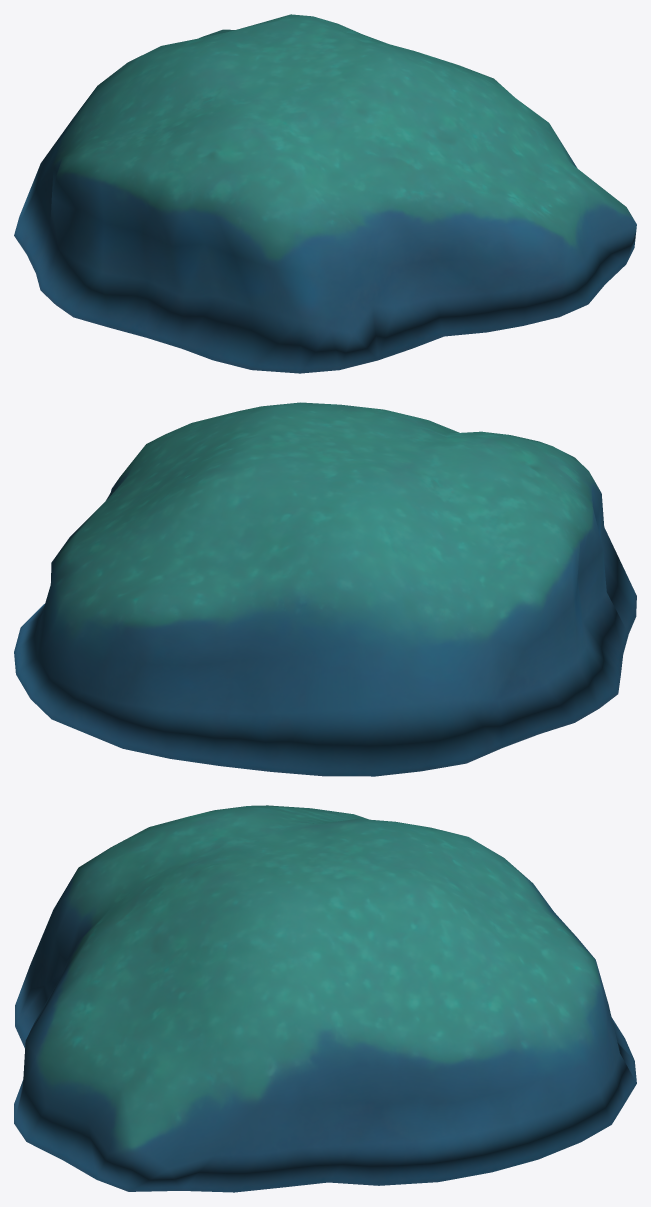
The model's file is Meshy_AI_model_20261128_texture.fbx.
3 renders of one model, top to bottom at view 1: azimuth 30°, elevation 25°; view 2: azimuth 150°, elevation 25°; view 3: azimuth 270°, elevation 25°, orthographic. The views are drawn at different scales.
Parts seen in each view (by area): view 1: geometry_0; view 2: geometry_0; view 3: geometry_0.
Boxes of the visible parts, x1=… form: geometry_0: x1=14, y1=14, x2=636, y2=373; geometry_0: x1=14, y1=402, x2=636, y2=776; geometry_0: x1=14, y1=805, x2=636, y2=1192.
Size of the model in its own units: 100 by 36.56 by 100.
1 material, 1 textured.
